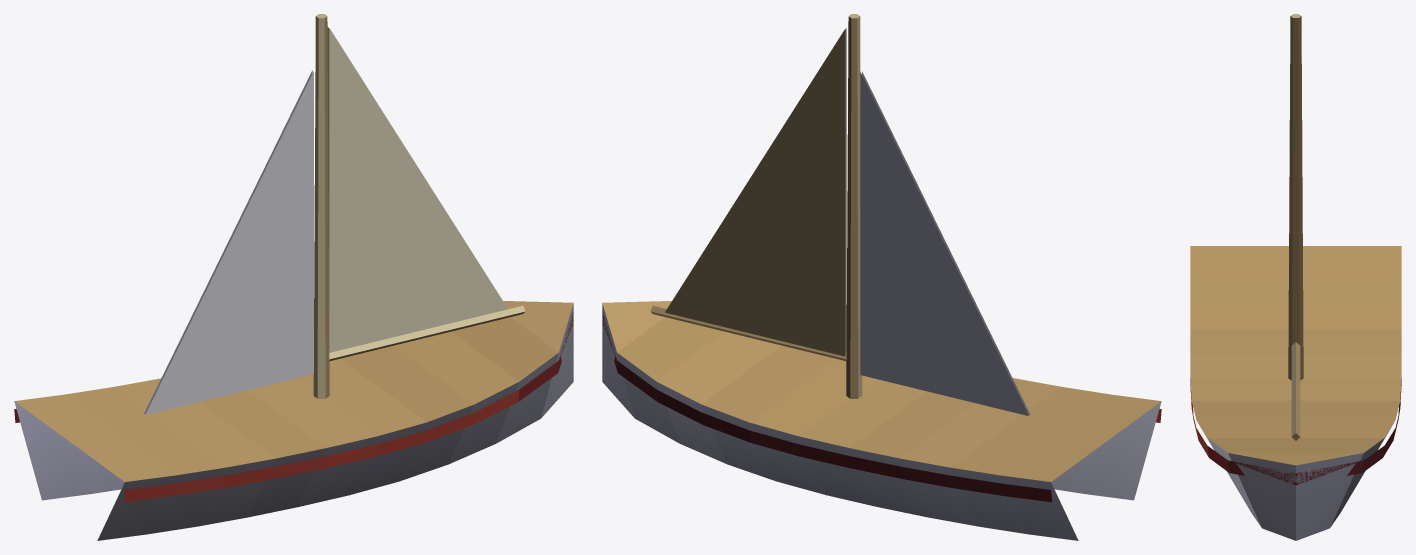
Rendered from sailboat.glb.
3 renders of one model, left to right at view 1: azimuth 30°, elevation 25°; view 2: azimuth 150°, elevation 25°; view 3: azimuth 270°, elevation 25°, orthographic. The views are drawn at different scales.
Visible parts, largest first — view 1: sailboat; view 2: sailboat; view 3: sailboat.
Part boxes in pixels (left/top/right/bottom): sailboat: left=14, top=14, right=573, bottom=540; sailboat: left=602, top=14, right=1161, bottom=540; sailboat: left=1190, top=14, right=1401, bottom=540.
Size of the model in its own units: 2 by 1.74 by 0.76.
